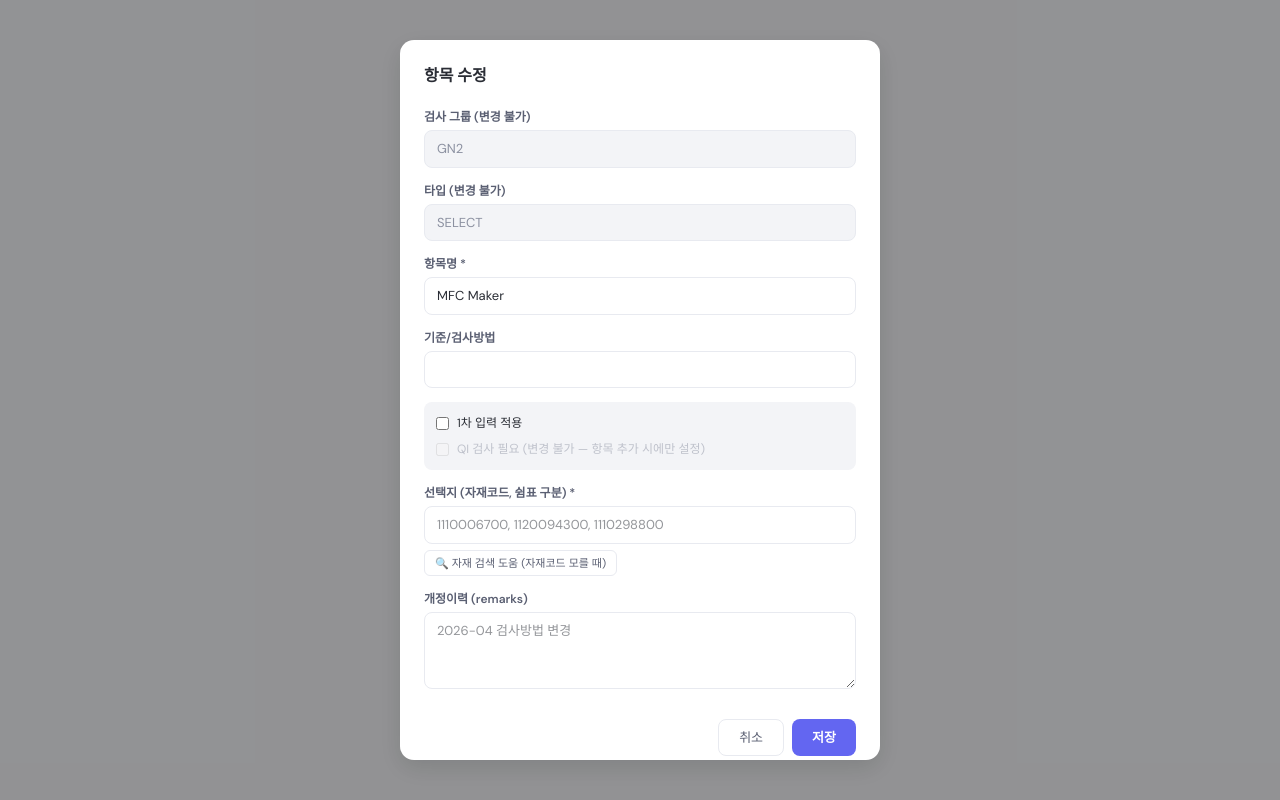
ChecklistEditModal — 방향 A 자재코드 input 영역 (HOTFIX-SPRINT42 v1.43.1) › v1.43.8: 대소문자 무관 자재코드 매칭 — DB MFC1234 / 입력 mfc1234 → matched
Note: 소문자 입력 → DB 대문자 자재와 매칭돼야 함
Step 1. Type "mfc1234" into the field with placeholder "1110006700, 1120094300, 1110298800" → (640, 525), box [424, 506, 856, 544]
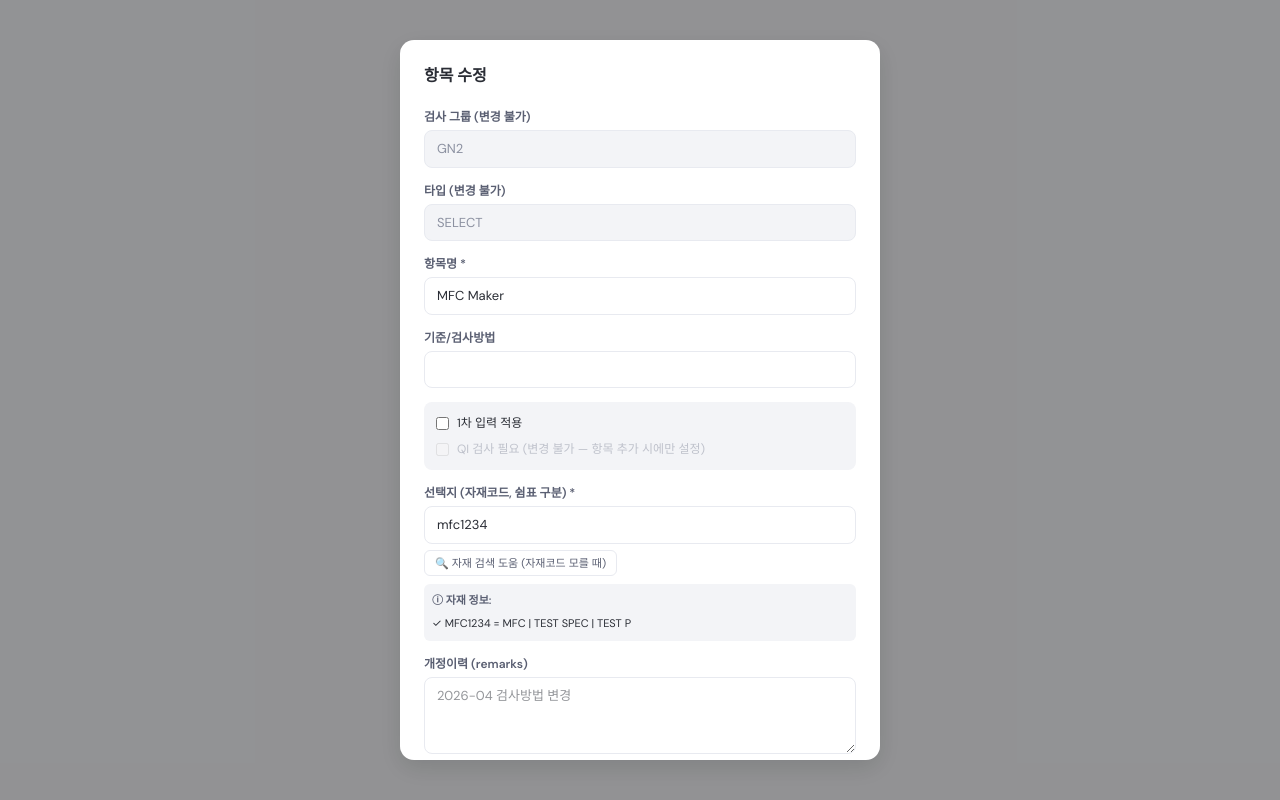
Expected: the text "✓ MFC1234 = MFC | TEST SPEC | TEST P" is shown, [432, 616, 631, 630]
